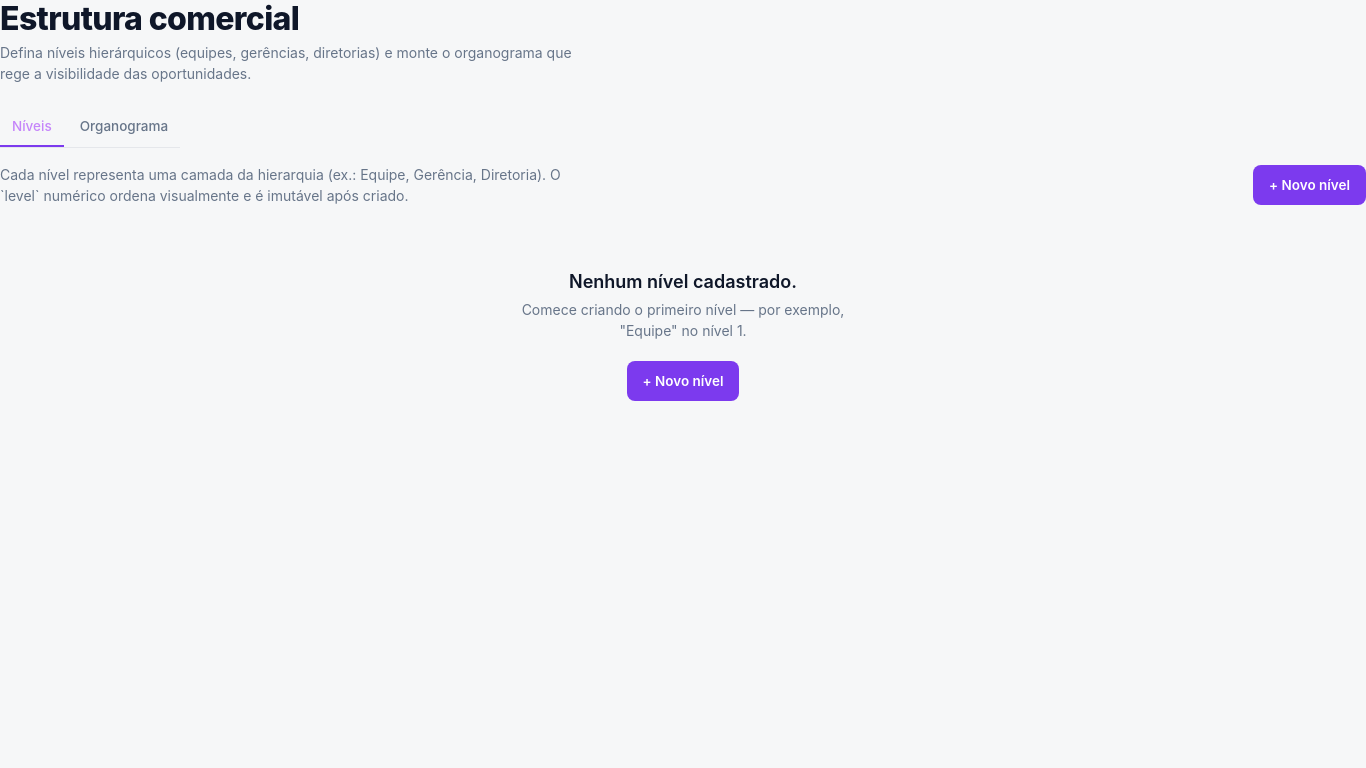
Test: /admin/commercial-structure (Sprint 15G Fase 4a) › botão "+ Novo nível" abre modal com título esperado
Step 1. Click the 1st button "+ Novo nível" → point(1310, 185), box [1253,165,1365,205]
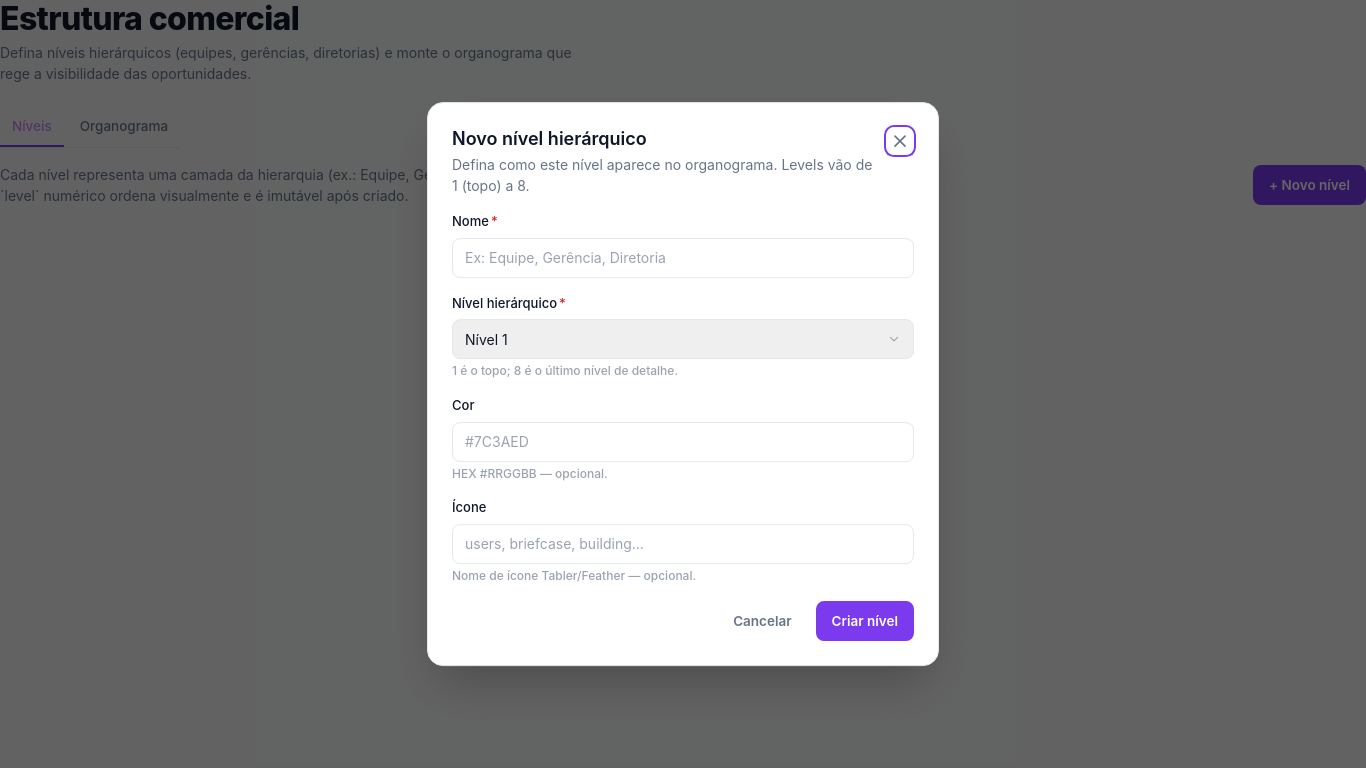
Expected: the dialog "Novo nível hierárquico" is shown, [427,102,939,666]
